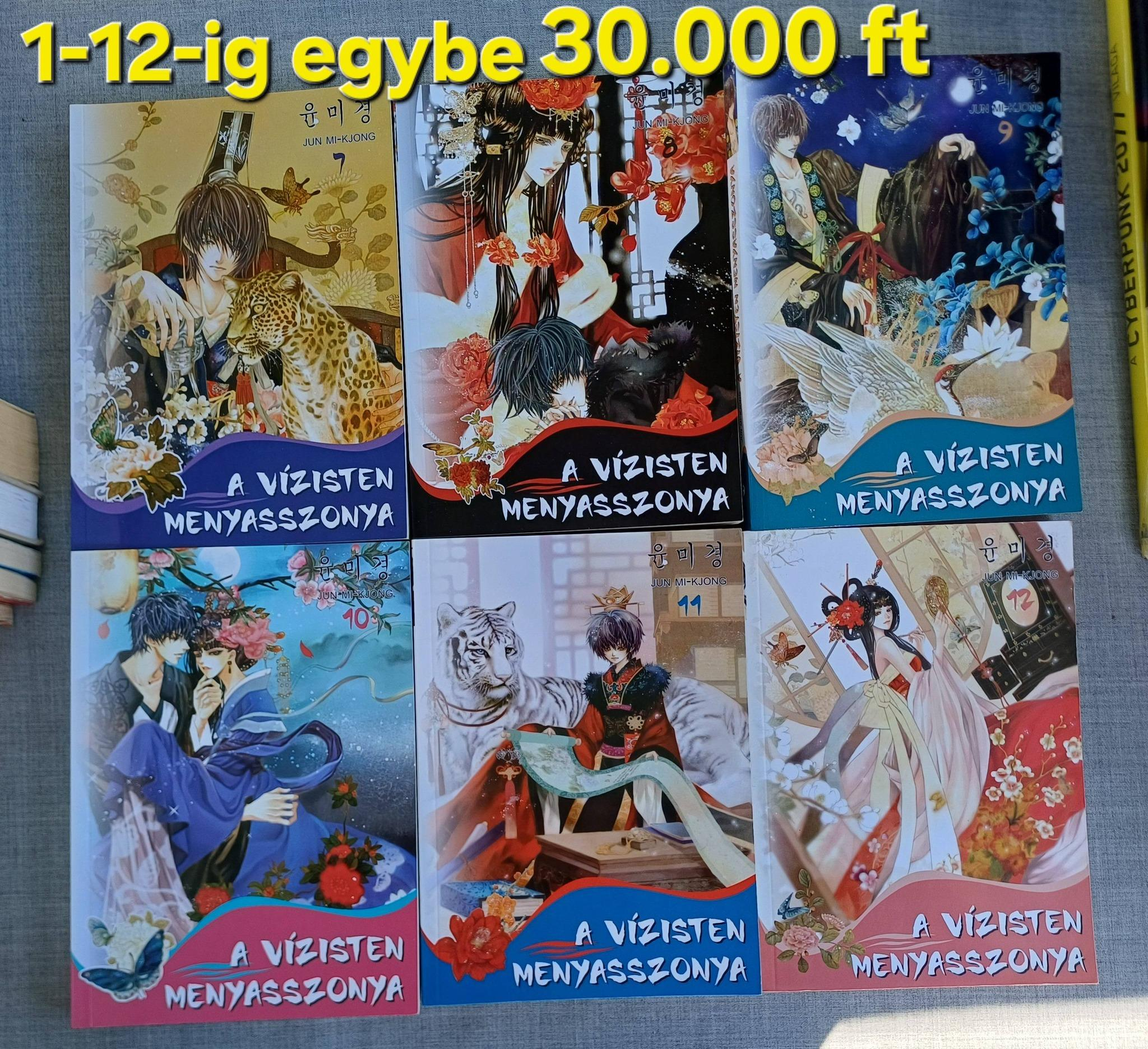comic: (725, 47, 1081, 532), (64, 542, 419, 1027), (404, 527, 761, 1006), (742, 518, 1096, 996), (394, 70, 742, 538), (68, 87, 405, 549)
